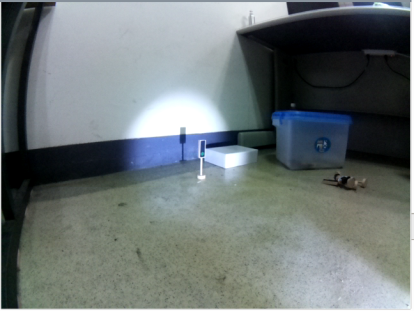Green: (197, 139, 208, 161)
